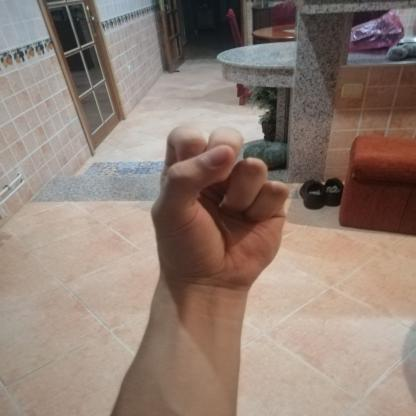QAAF: (127, 113, 318, 306)
